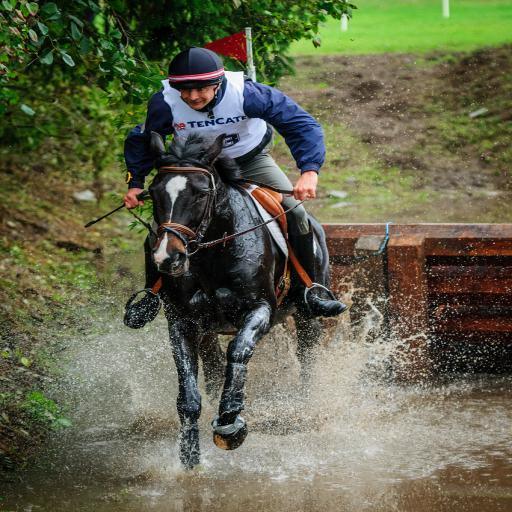horse: (146, 130, 334, 474)
